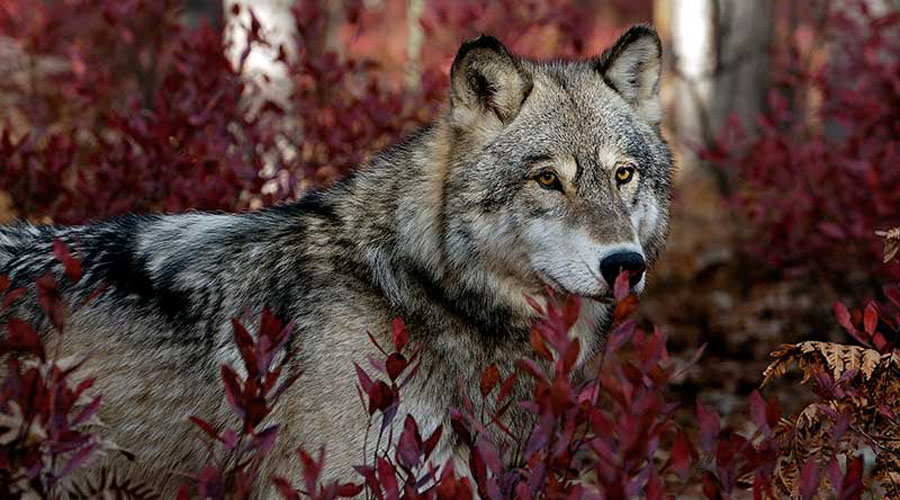Lobo: (70, 16, 703, 436)
